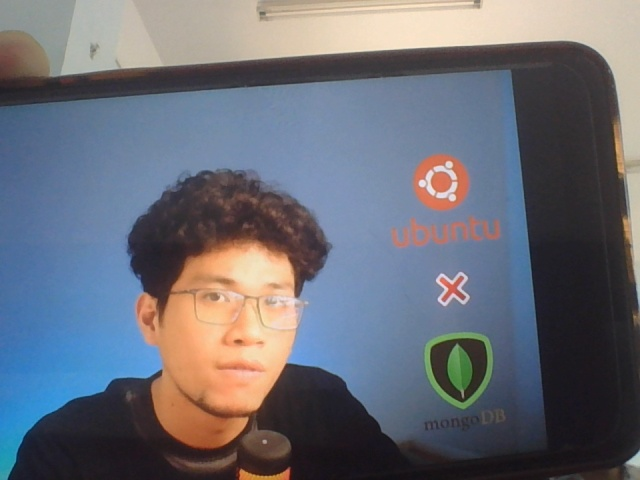fake: (141, 174, 315, 420)
